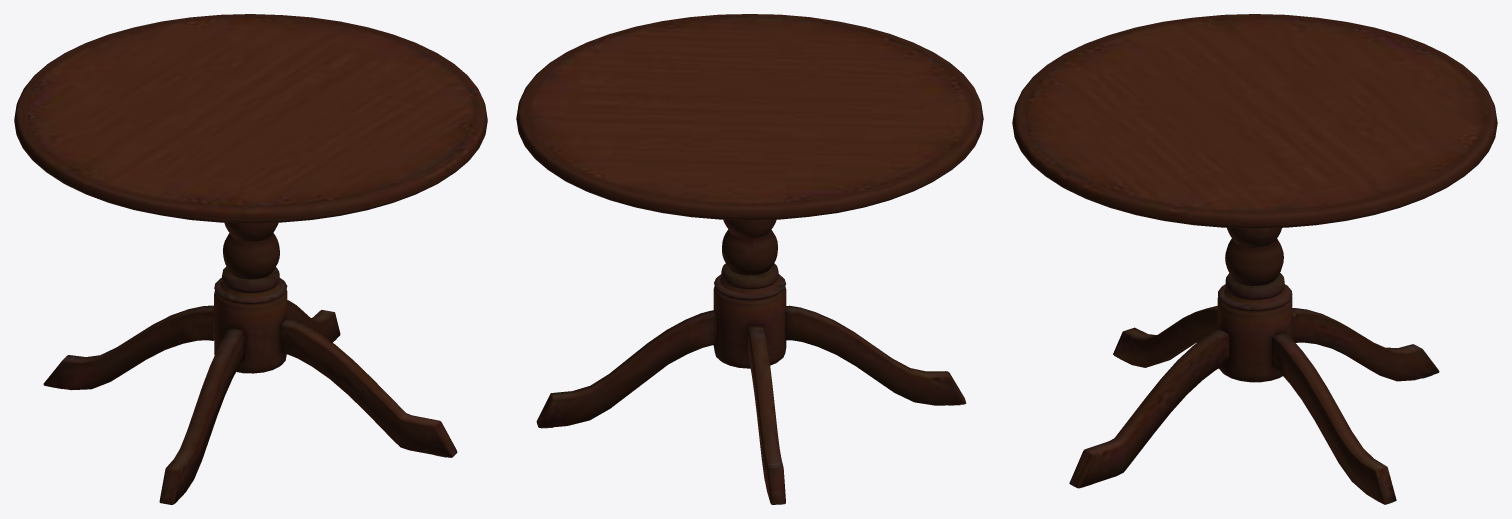
The model's file is table-round-01.lite.781dc297.glb.
3 views of the same model, side by side, from view 1: azimuth 30°, elevation 25°; view 2: azimuth 150°, elevation 25°; view 3: azimuth 270°, elevation 25° (orthographic). The views are drawn at different scales.
Visible parts, largest first — view 1: model; view 2: model; view 3: model.
Part boxes in pixels (x1,y1,x2,y2): model: (14,14,487,504); model: (516,14,983,504); model: (1012,14,1497,504).
Size of the model in its own units: 1.4 by 1 by 1.4.
1 material, 1 textured.
